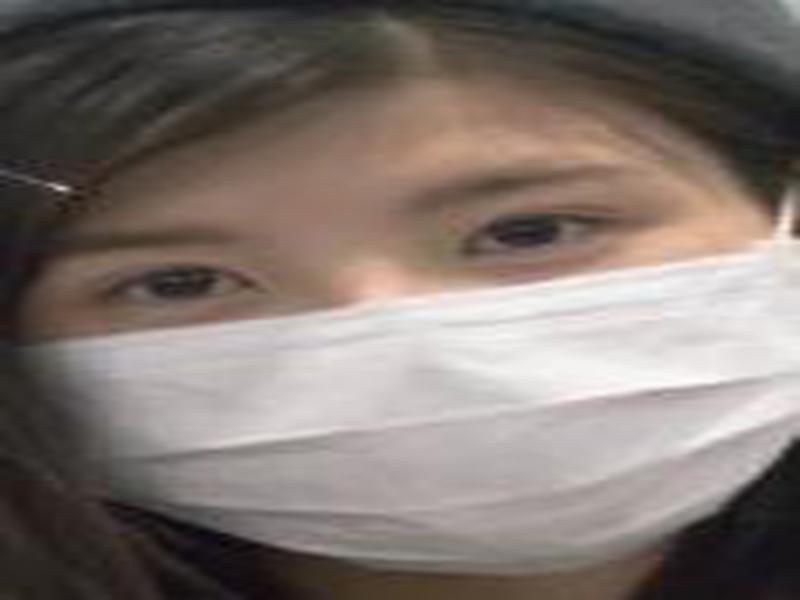with_mask: (1, 79, 798, 600)
